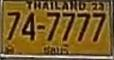4: (21, 12, 34, 40)
7: (92, 12, 105, 41), (46, 11, 59, 40), (77, 12, 90, 40), (6, 12, 19, 40), (62, 12, 74, 40)
CBI: (42, 42, 70, 55)
